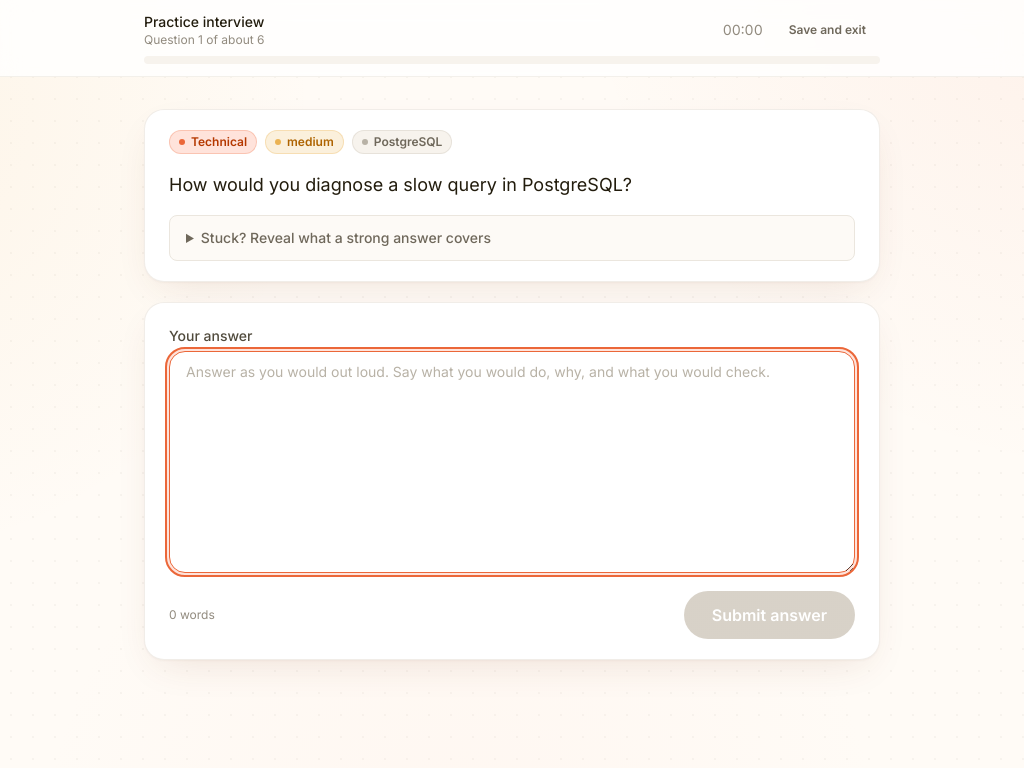
InterviewRoom › submits a real answer and shows the rubric breakdown
Expected: the text "How would you diagnose a slow query in PostgreSQL?" is shown, [169,174,632,195]
Type "I would start with EXPLAIN ANALYZE and check whether the planner picks the index." into the text box labelled "Your answer" at (512, 462), box [169,351,855,573]
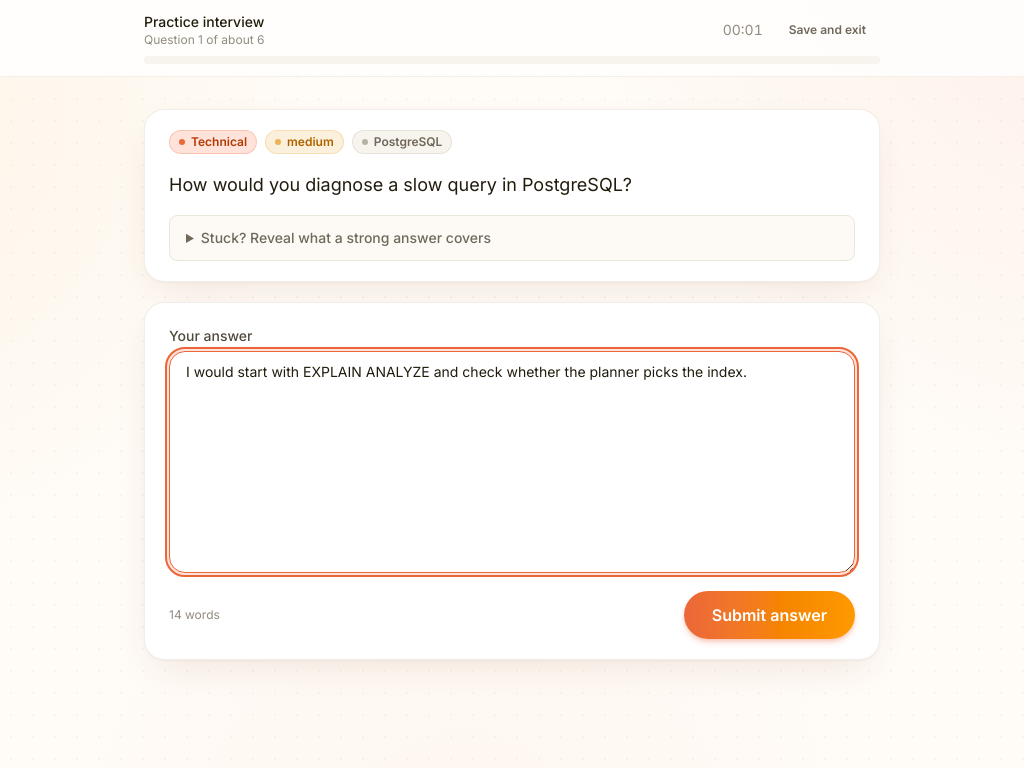
Click the button "Submit answer" at (769, 615), box [684,591,855,639]
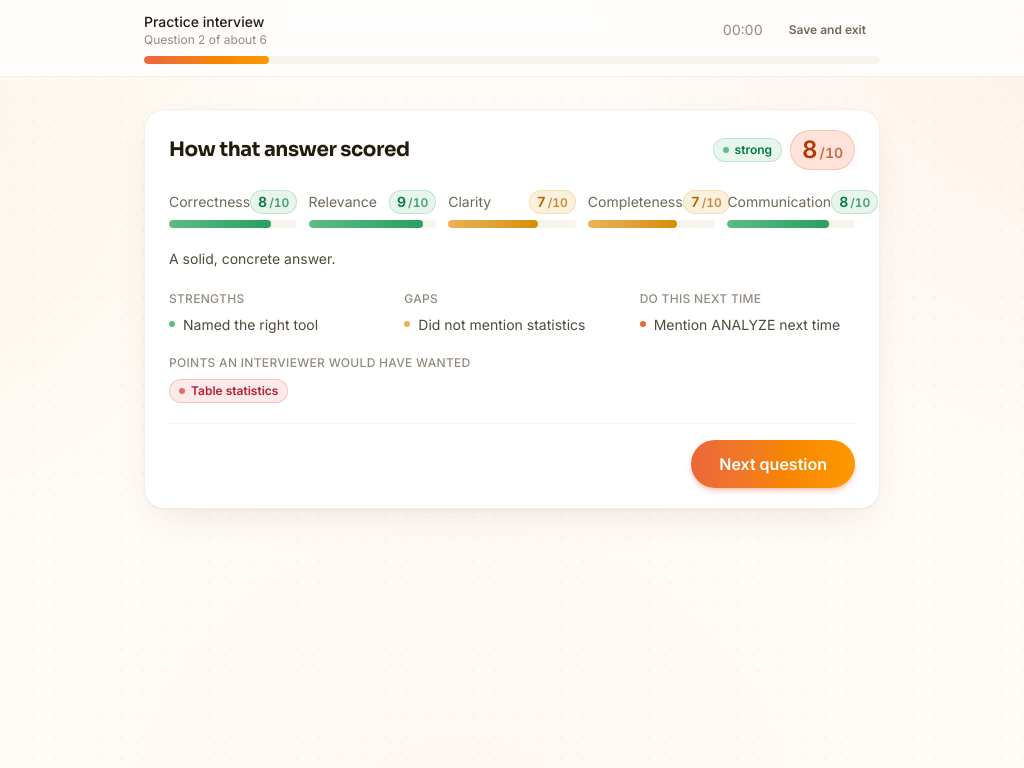
Result: the heading "How that answer scored" is shown at [169,136,410,164]
Result: the text "Named the right tool" is shown at [183,315,318,335]
Result: the text "Mention ANALYZE next time" is shown at [654,315,840,335]
